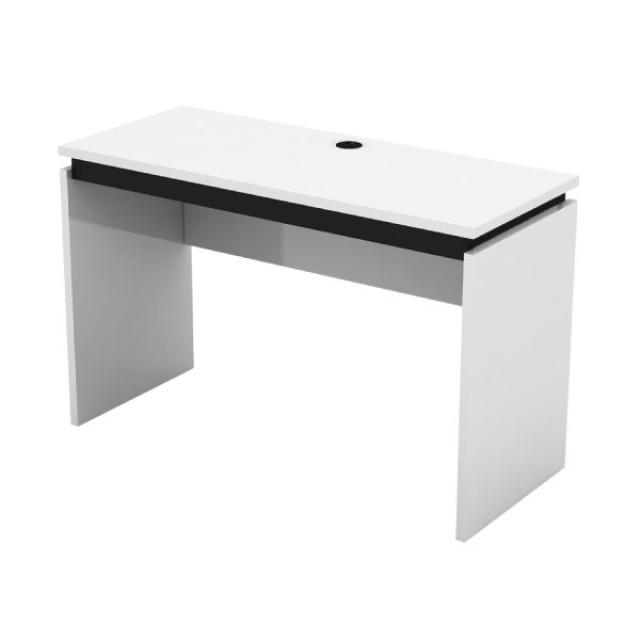table: (32, 87, 615, 557)
